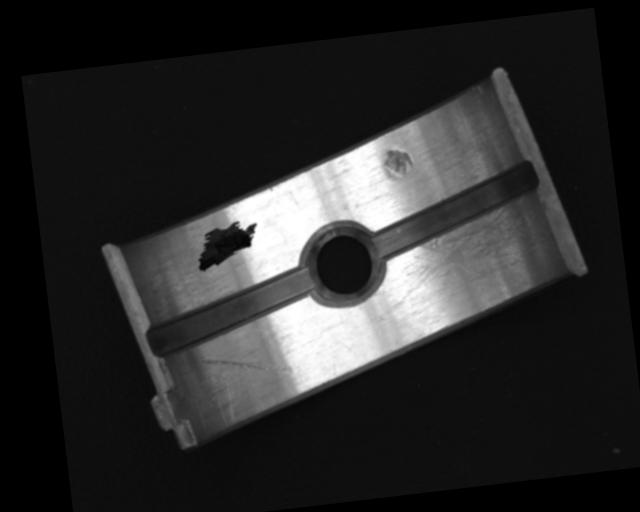blot: (193, 217, 263, 274)
bruise: (379, 146, 415, 184)
gap: (365, 161, 545, 261), (143, 265, 322, 359)
hole: (300, 223, 386, 307)
nick: (199, 347, 294, 384)
scratch: (383, 201, 556, 310)
